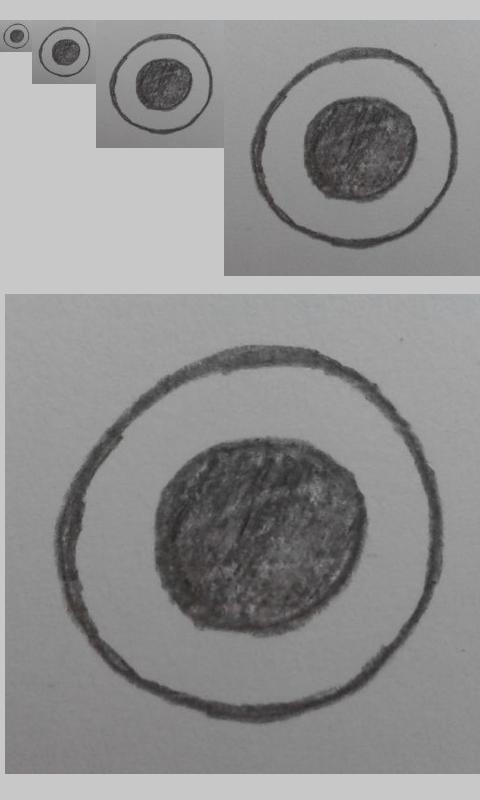radio_button: (52, 342, 446, 726), (248, 45, 459, 249), (108, 33, 215, 135), (38, 27, 91, 78), (2, 22, 30, 49)
